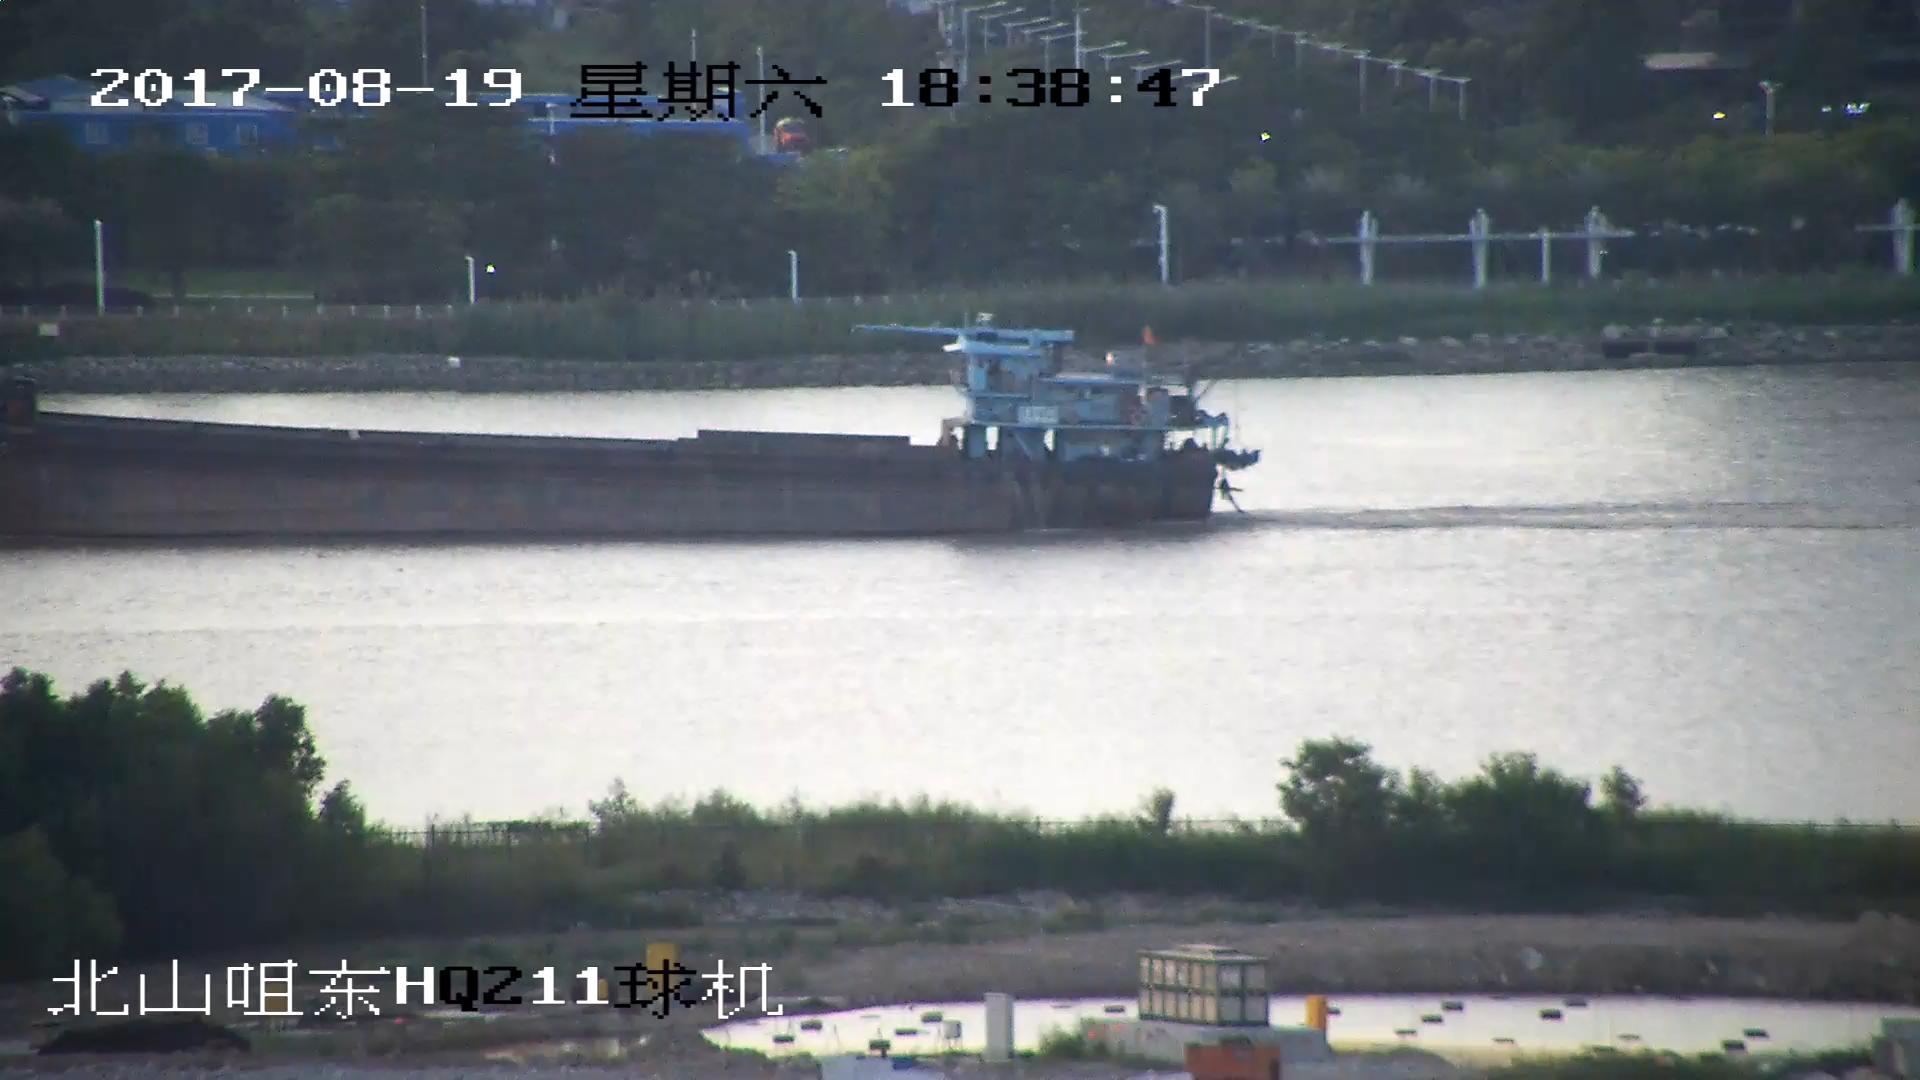Ship: (3, 314, 1240, 534)
